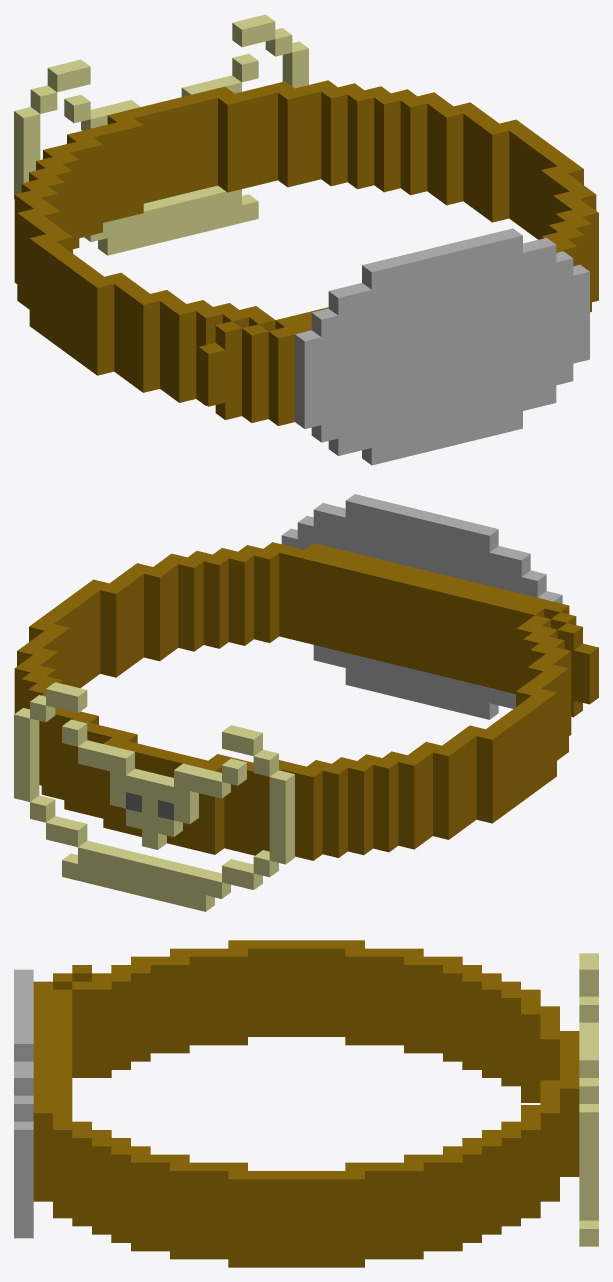
The picture shows the model from 3 angles, top to bottom: view 1: azimuth 30°, elevation 25°; view 2: azimuth 150°, elevation 25°; view 3: azimuth 270°, elevation 25°; orthographic projection. The views are drawn at different scales.
Bounding box in the file's own units: 1.45 × 0.55 × 1.5.
